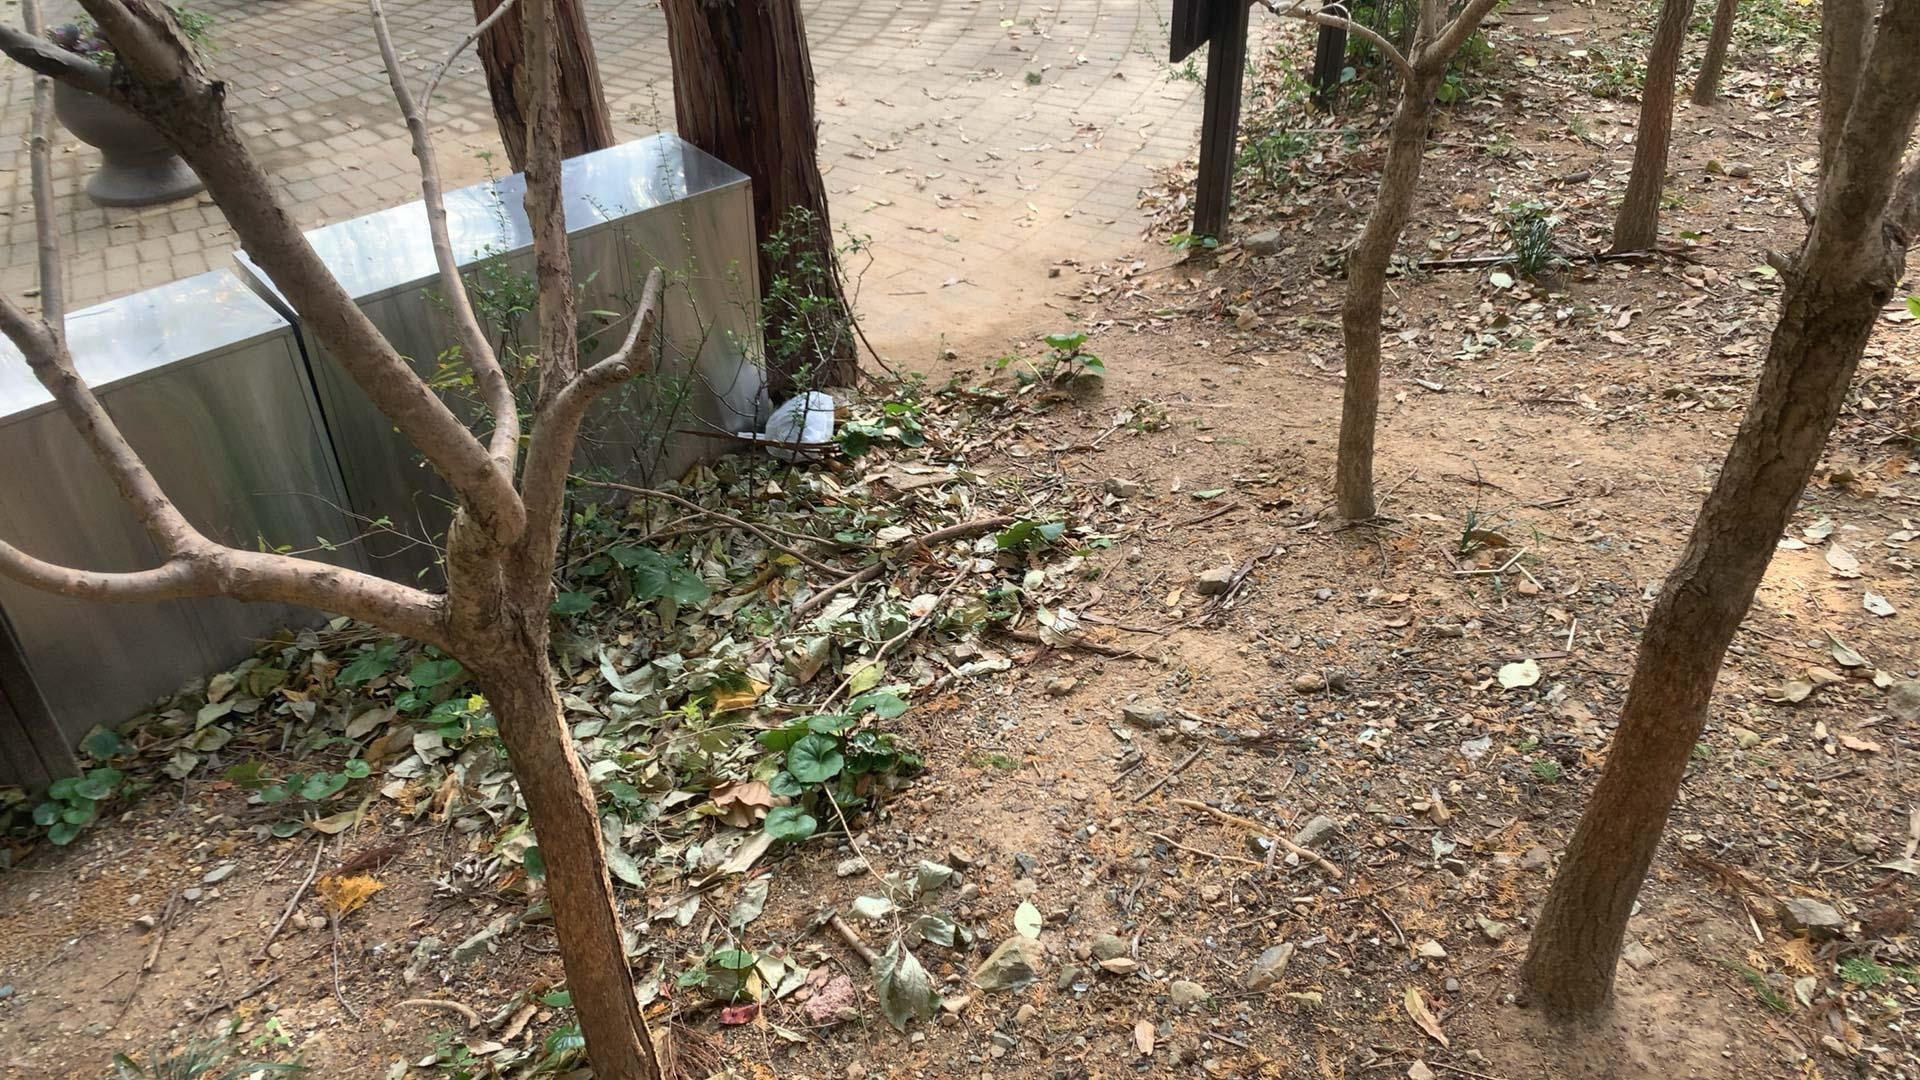white_bag: (754, 392, 852, 469)
